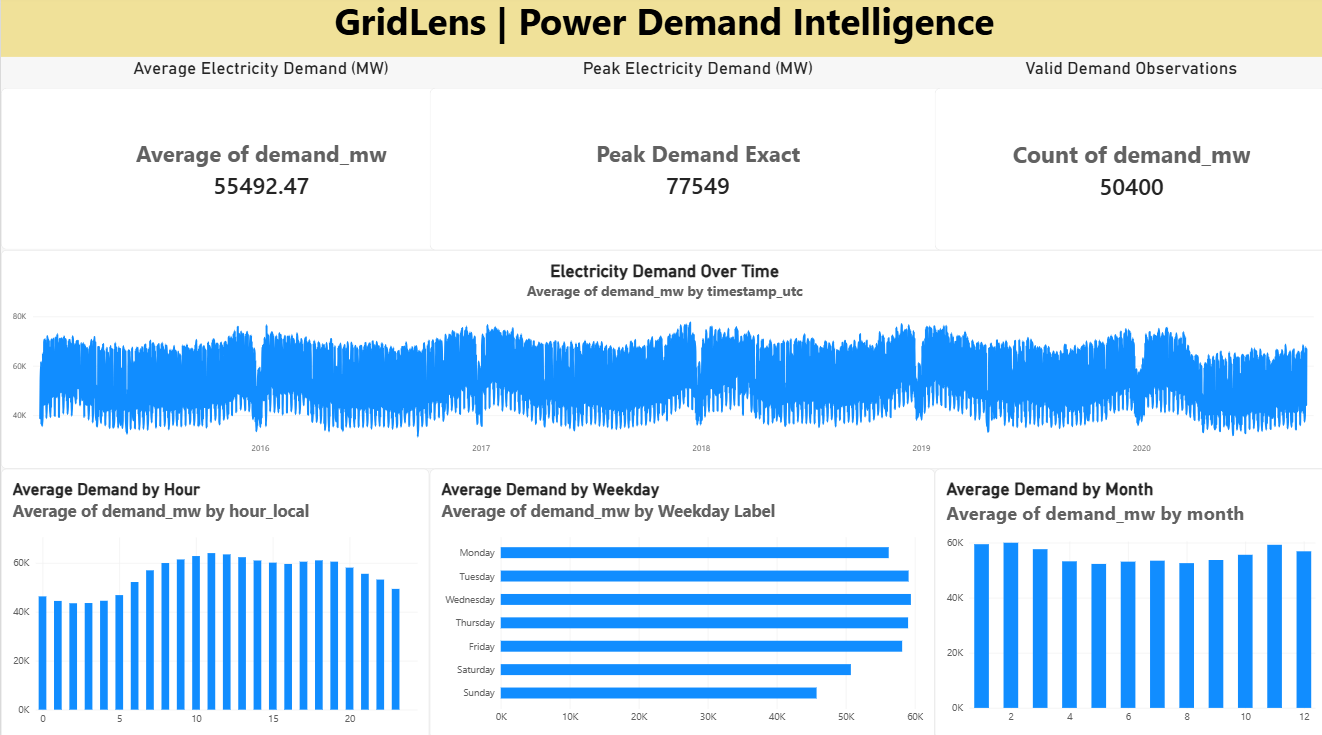

Layout of this report page (visuals, bound fields, positions):
{"tool":"powerbi","page":{"name":"Power Demand Intelligence","canvas":[1920,1080],"ordinal":0},"visuals":[{"type":"cardVisual","title":"Average Electricity Demand (MW)","fields":{"Data":["Avg(gridlens_hourly.demand_mw)"]},"box":[0,90,752,278],"z":0},{"type":"cardVisual","title":"Peak Electricity Demand (MW)","fields":{"Data":["gridlens_hourly.Peak Demand Exact"]},"box":[620.7,89.7,775.9,279.3],"z":1000},{"type":"cardVisual","title":"Valid Demand Observations","fields":{"Data":["CountNonNull(gridlens_hourly.demand_mw)"]},"box":[1351.7,89.7,569,279.3],"z":2000},{"type":"lineChart","title":"Electricity Demand Over Time","fields":{"Category":["gridlens_hourly.timestamp_utc"],"Y":["Avg(gridlens_hourly.demand_mw)"]},"box":[0,368.6,1920,317.1],"z":3000},{"type":"clusteredColumnChart","title":"Average Demand by Hour","fields":{"Category":["gridlens_hourly.hour_local"],"Y":["Avg(gridlens_hourly.demand_mw)"]},"box":[0,686,620,394],"z":4000},{"type":"clusteredBarChart","title":"Average Demand by Weekday","fields":{"Category":["gridlens_hourly.Weekday Label"],"Y":["Avg(gridlens_hourly.demand_mw)"]},"box":[620,685.7,731.4,391.4],"z":5000},{"type":"clusteredColumnChart","title":"Average Demand by Month","fields":{"Category":["gridlens_hourly.month"],"Y":["Avg(gridlens_hourly.demand_mw)"]},"box":[1351.4,685.7,568.6,391.4],"z":6000},{"type":"textbox","box":[0,0,1920.7,89.7],"z":8000}]}

Visuals, with their boxes in screenshot pixels (x1, y1, x2, y2), scaled from the page's 1920x1080 canvas onto the 1322x735 screenshot:
"Average Electricity Demand (MW)" cardVisual: bbox=[0, 61, 518, 250]
"Peak Electricity Demand (MW)" cardVisual: bbox=[427, 61, 962, 251]
"Valid Demand Observations" cardVisual: bbox=[931, 61, 1321, 251]
"Electricity Demand Over Time" lineChart: bbox=[0, 251, 1321, 467]
"Average Demand by Hour" clusteredColumnChart: bbox=[0, 467, 427, 734]
"Average Demand by Weekday" clusteredBarChart: bbox=[427, 467, 930, 733]
"Average Demand by Month" clusteredColumnChart: bbox=[930, 467, 1321, 733]
textbox: bbox=[0, 0, 1321, 61]
